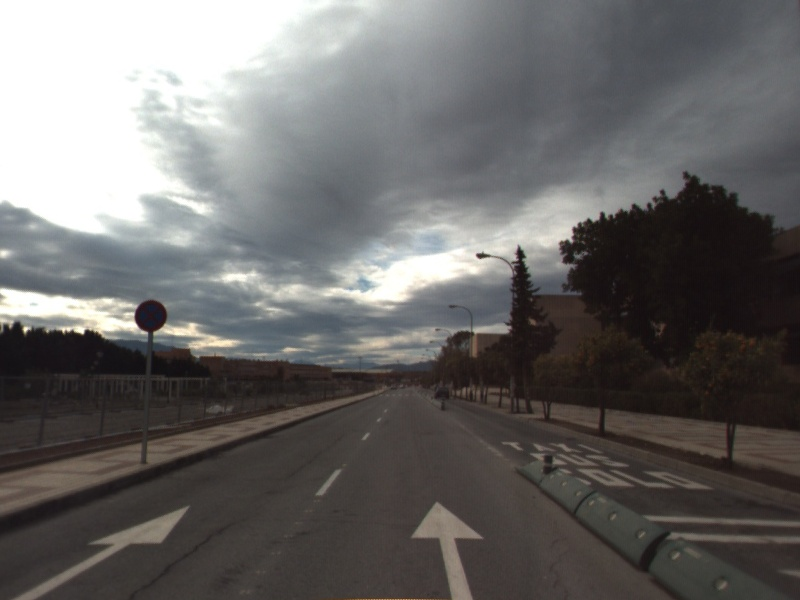STRAIGHT: (8, 503, 193, 600), (408, 499, 487, 600)
